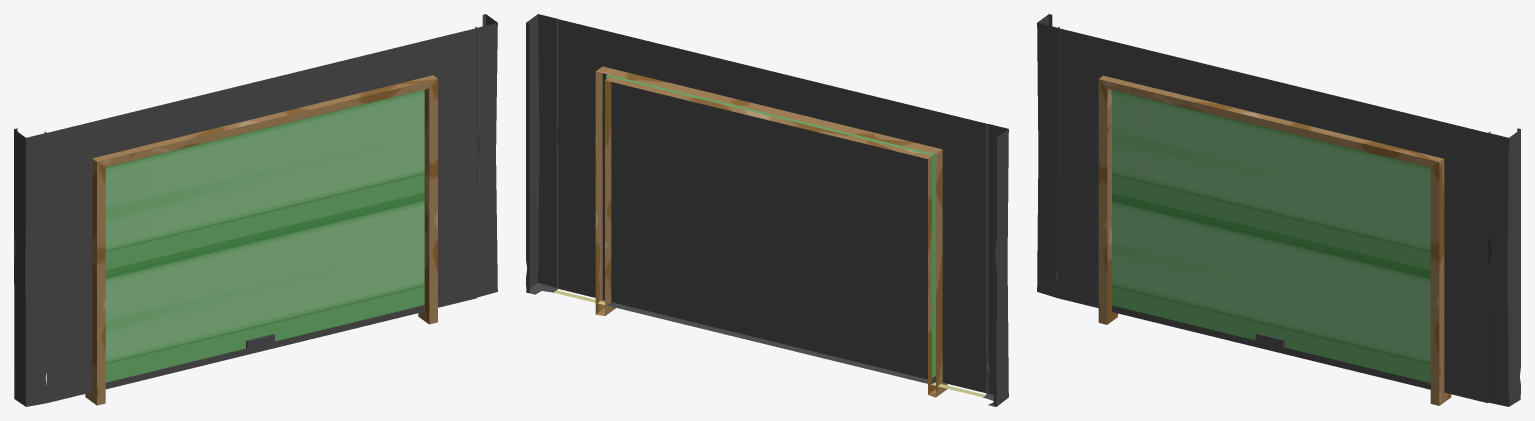
Rendered from Garage_01.fbx.
3 renders of one model, left to right at view 1: azimuth 30°, elevation 25°; view 2: azimuth 150°, elevation 25°; view 3: azimuth 330°, elevation 25°, orthographic.
Visible parts, largest first — view 1: Garage_01; view 2: Garage_01; view 3: Garage_01.
Part boxes in pixels (bbox=[...]): Garage_01: bbox=[14, 14, 497, 406]; Garage_01: bbox=[526, 14, 1008, 406]; Garage_01: bbox=[1037, 14, 1520, 406].
Bounding box in the file's own units: 548 × 311 × 33.68.
